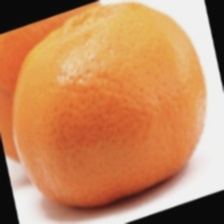orange: (47, 59, 189, 194)
